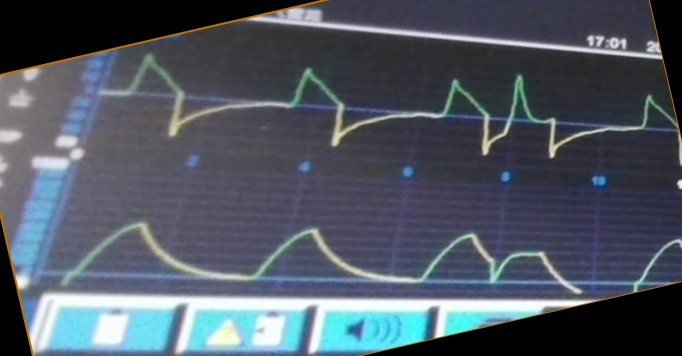Double_Triggering Flow: (134, 52, 596, 159)
Double_Triggering Volume: (96, 211, 612, 291)
